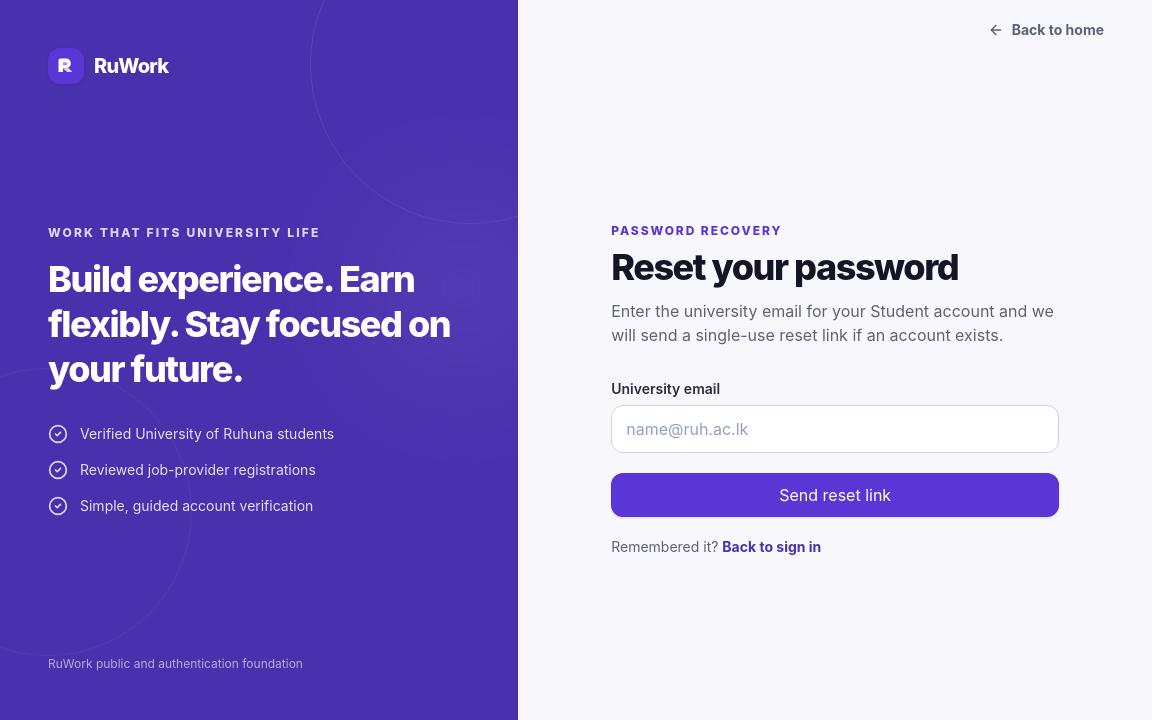
Phase 10 password lifecycle and session hardening › validates the reset address and shows one non-enumerating confirmation
This screenshot has width=1152, height=720.
Type "someone@example.com" into the field labelled "University email" at (835, 429), box [611,405,1059,453]
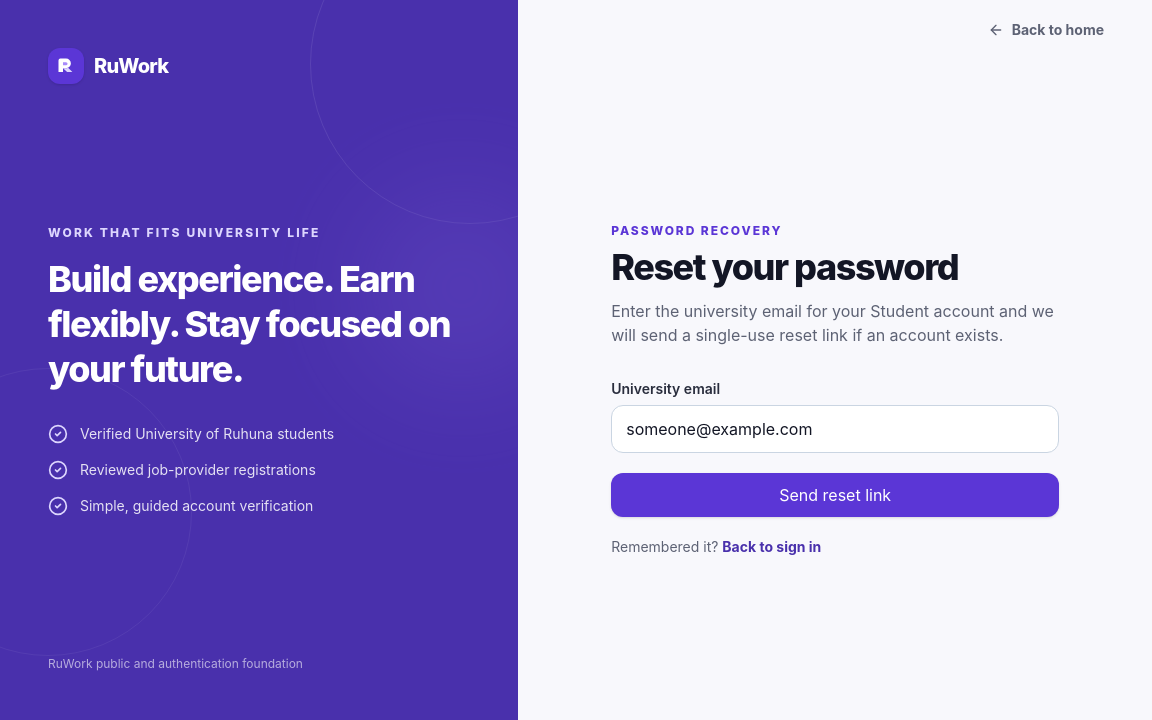
Click the button "Send reset link" at (835, 495), box [611,473,1059,517]
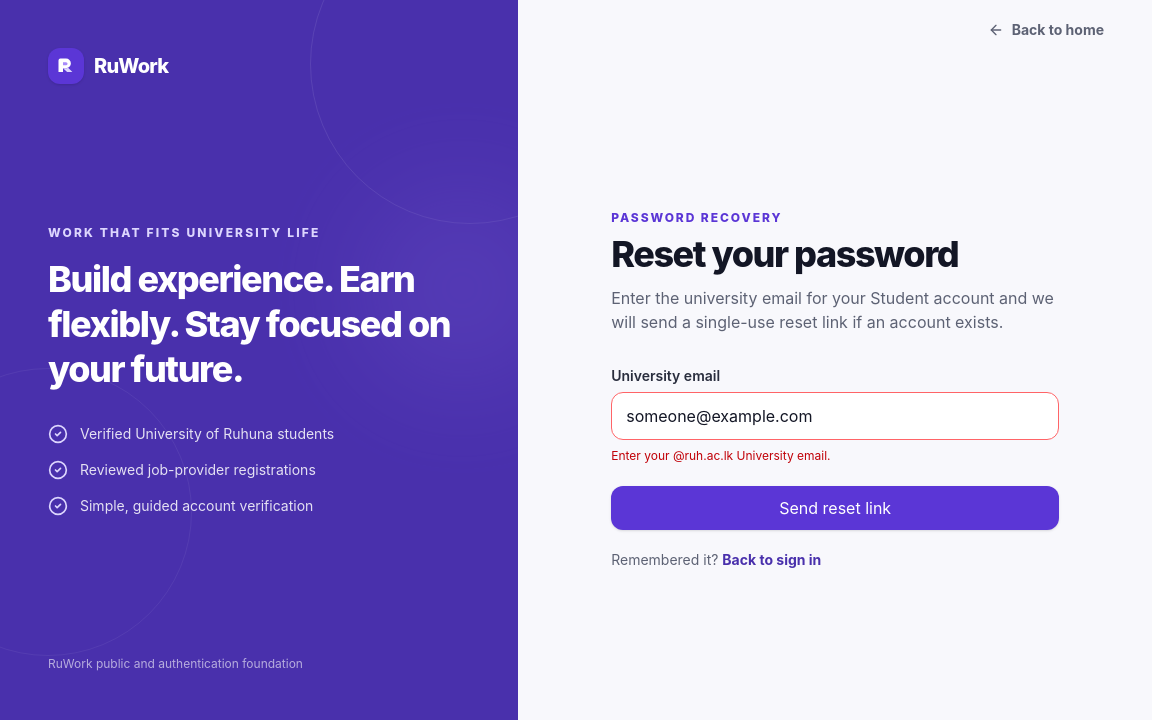
Expected: the text "Enter your @ruh.ac.lk University email." is shown, [611,448,831,463]
Replace the text in the field labelled "University email" with "student@ruh.ac.lk" at (835, 416), box [611,392,1059,440]
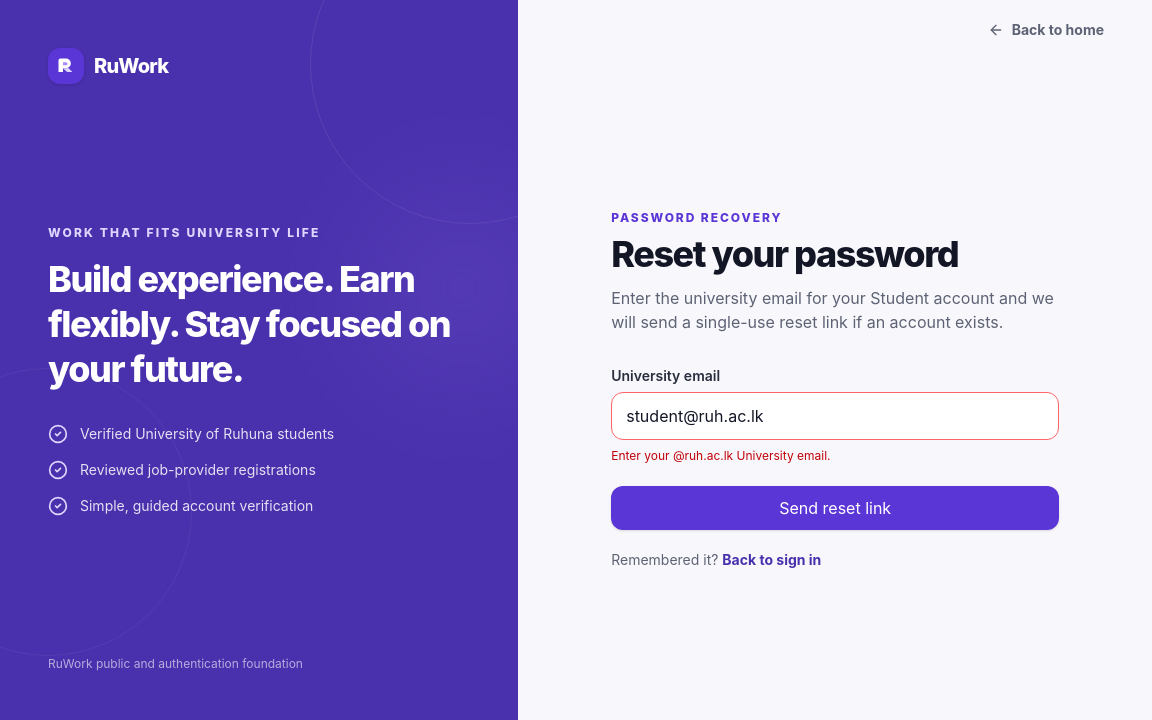
Click the button "Send reset link" at (835, 508), box [611,486,1059,530]
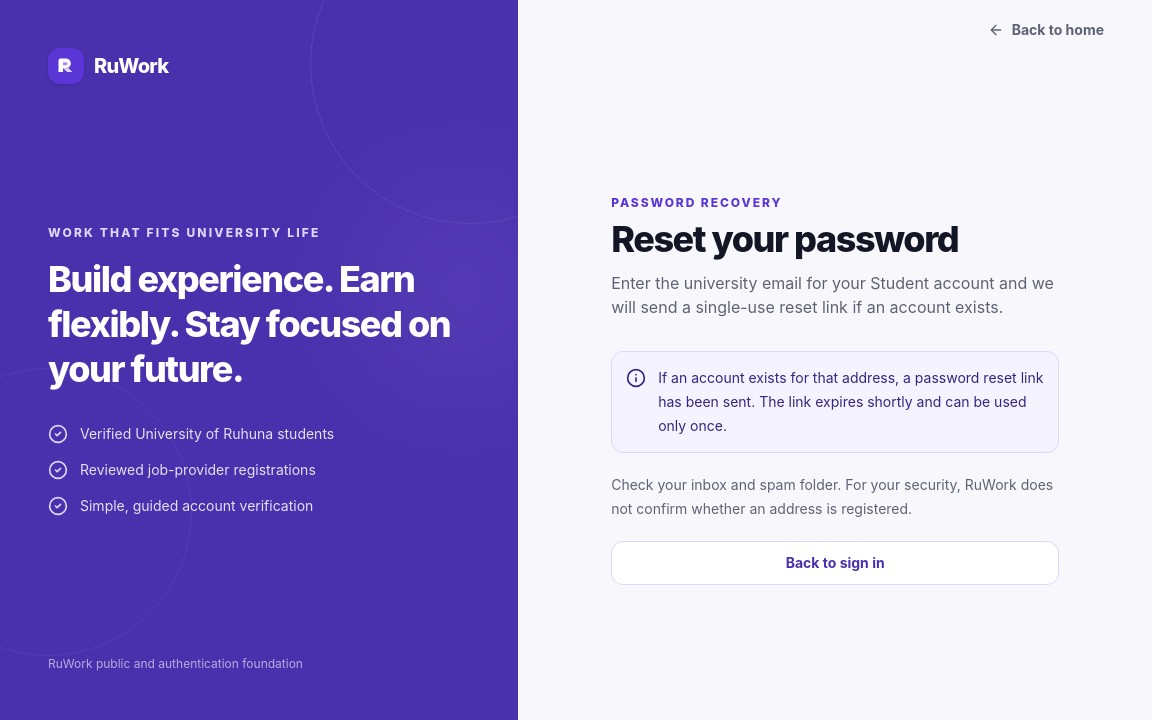
Expected: the text "If an account exists for that address" is shown, [658,369,1043,434]
Expected: the text "does not confirm whether an address is registered" is shown, [611,476,1053,517]
